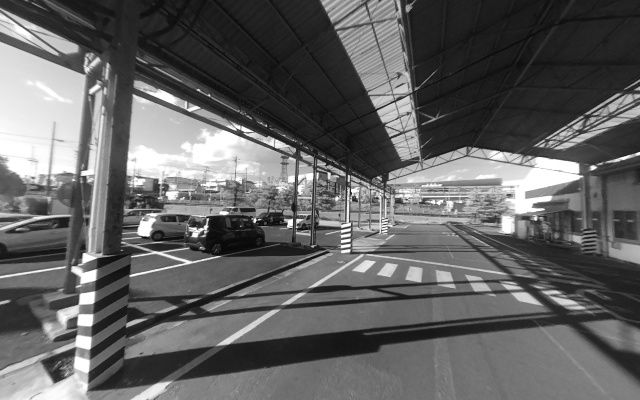bollard: (73, 249, 129, 393), (581, 227, 596, 258), (340, 222, 352, 252), (379, 215, 389, 236)
